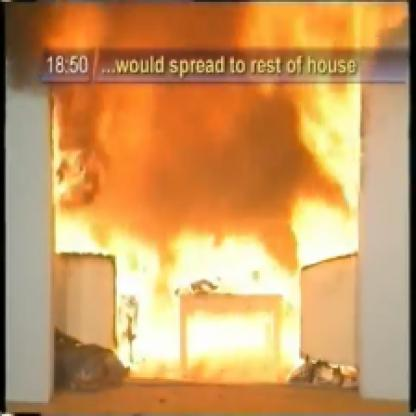fire: (72, 193, 353, 381), (223, 0, 403, 241), (32, 2, 177, 283)
